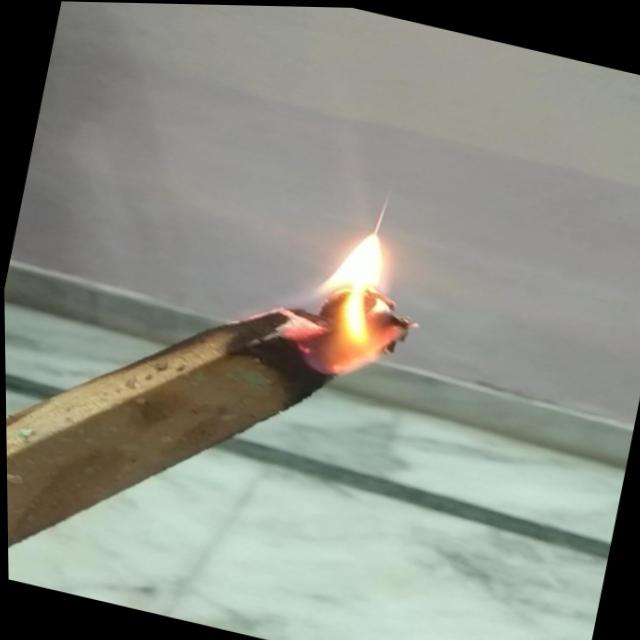fire: (262, 197, 441, 390)
